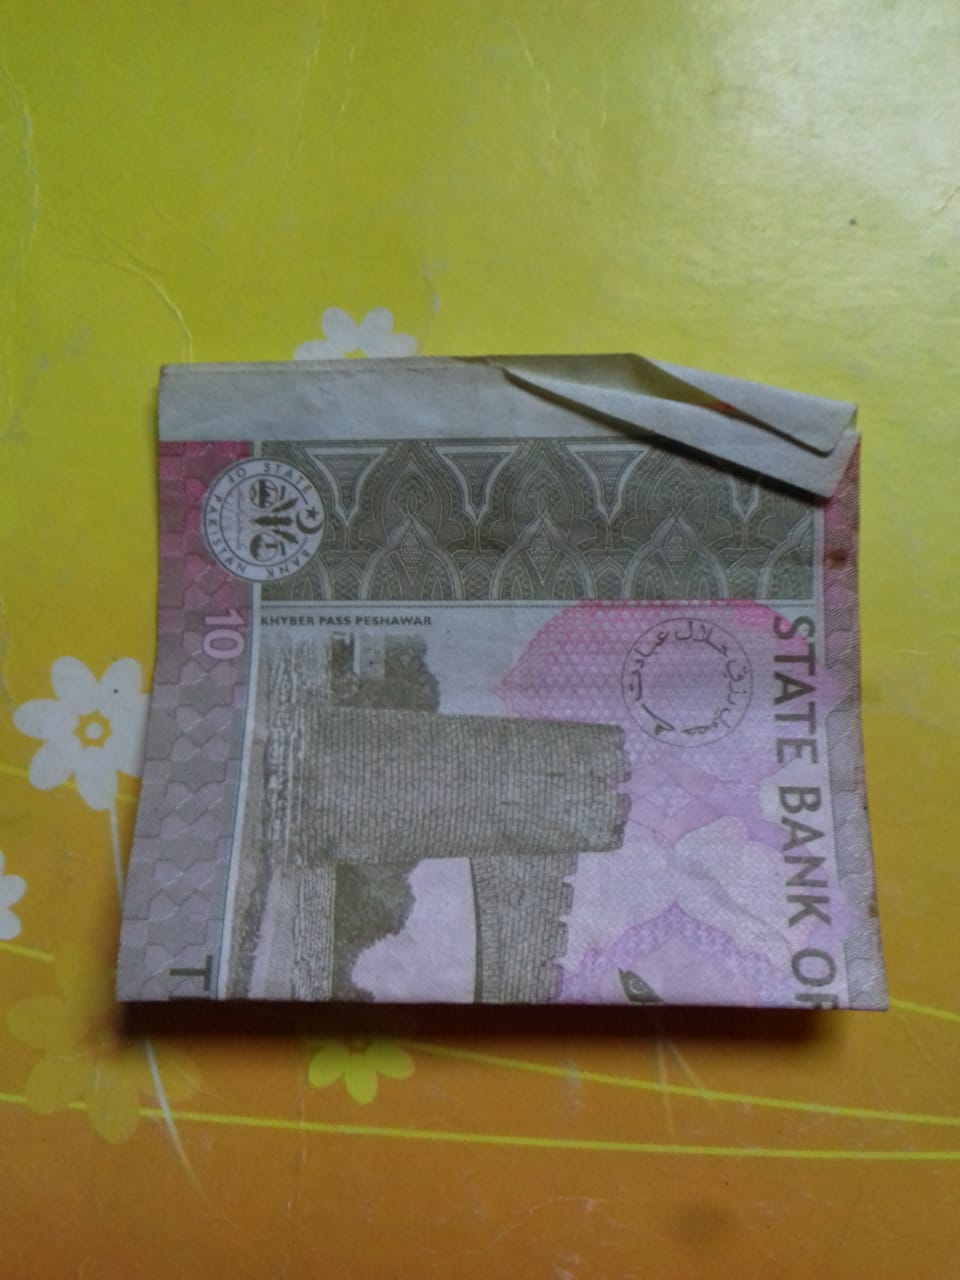10 rupee: (91, 316, 905, 1059)
